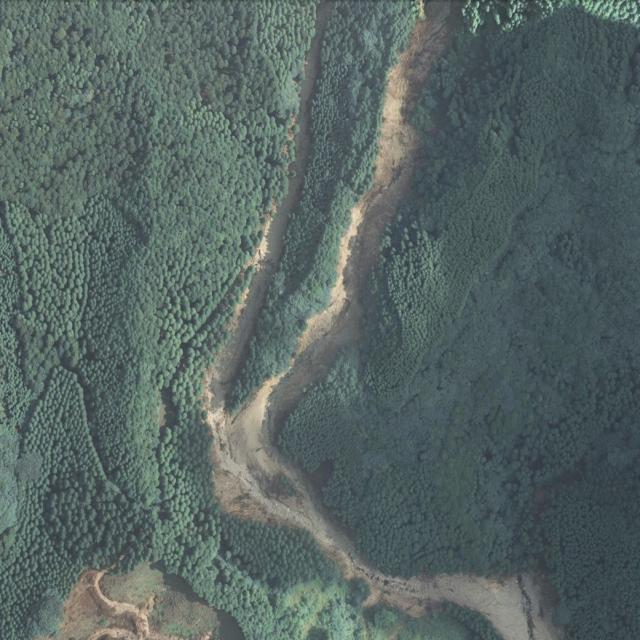landslide: (205, 1, 562, 640)
